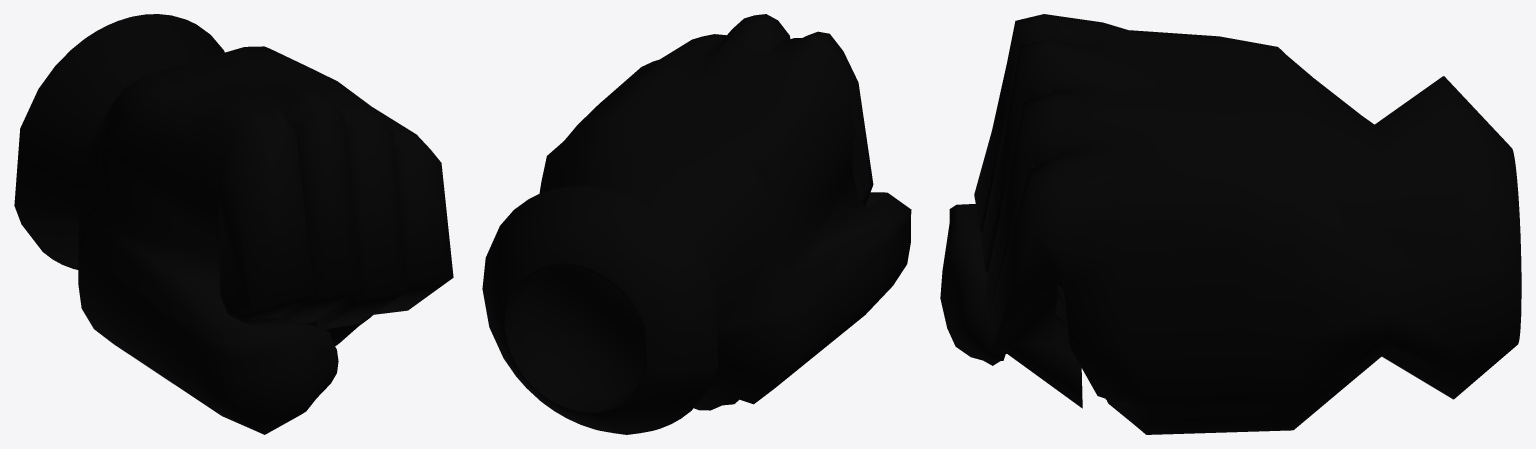
Rendered from armL.obj.
3 views of the same model, side by side, from view 1: azimuth 30°, elevation 25°; view 2: azimuth 150°, elevation 25°; view 3: azimuth 270°, elevation 25° (orthographic). The views are drawn at different scales.
Visible parts, largest first — view 1: 立方体; view 2: 立方体; view 3: 立方体.
Boxes of the visible parts, bbox=[...] form: 立方体: bbox=[14, 14, 453, 434]; 立方体: bbox=[482, 14, 911, 434]; 立方体: bbox=[940, 14, 1521, 434].
Bounding box in the file's own units: 11.38 × 13.21 × 18.41.
Materials: 1 (1 with a texture image).
